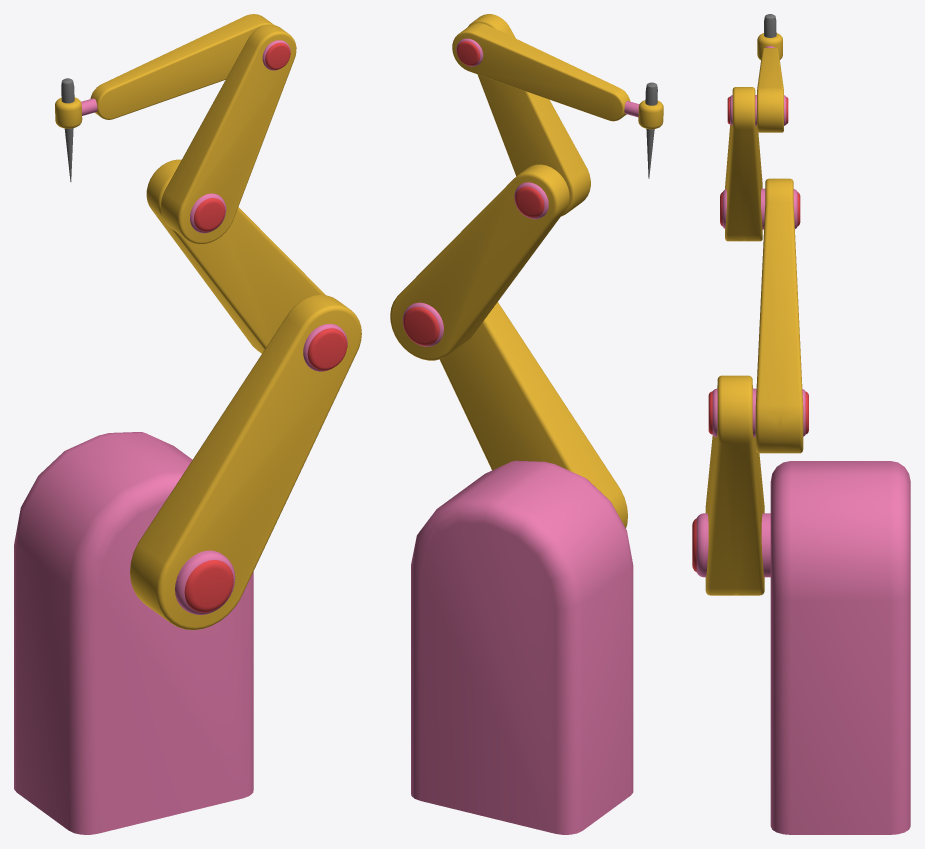
The model's file is makina2.fbx.
The picture shows the model from 3 angles, left to right: view 1: azimuth 30°, elevation 25°; view 2: azimuth 150°, elevation 25°; view 3: azimuth 270°, elevation 25°; orthographic projection. The views are drawn at different scales.
Visible parts, largest first — view 1: govde.001, kol1.001, kol3.001, kol2.001, kol4, lazerTutamac; view 2: govde.001, kol2.001, kol1.001, kol3.001, kol4, lazerTutamac, lazer; view 3: govde.001, kol1.001, kol2.001, kol3.001, kol4, lazerTutamac.
Part boxes in pixels (x1,y1,x2,y2): govde.001: [14, 432, 253, 834]; kol1.001: [130, 294, 361, 630]; kol3.001: [161, 24, 296, 244]; kol2.001: [146, 159, 347, 371]; kol4: [90, 14, 273, 119]; lazerTutamac: [55, 97, 97, 128]; govde.001: [411, 460, 633, 834]; kol2.001: [390, 164, 569, 360]; kol1.001: [439, 302, 627, 528]; kol3.001: [456, 14, 590, 219]; kol4: [452, 23, 630, 121]; lazerTutamac: [624, 100, 663, 129]; lazer: [645, 82, 657, 178]; govde.001: [770, 461, 910, 834]; kol1.001: [692, 375, 770, 595]; kol2.001: [708, 178, 808, 453]; kol3.001: [720, 87, 800, 241]; kol4: [757, 48, 783, 132]; lazerTutamac: [757, 33, 782, 59].
Size of the model in its own units: 307 by 814 by 217.
